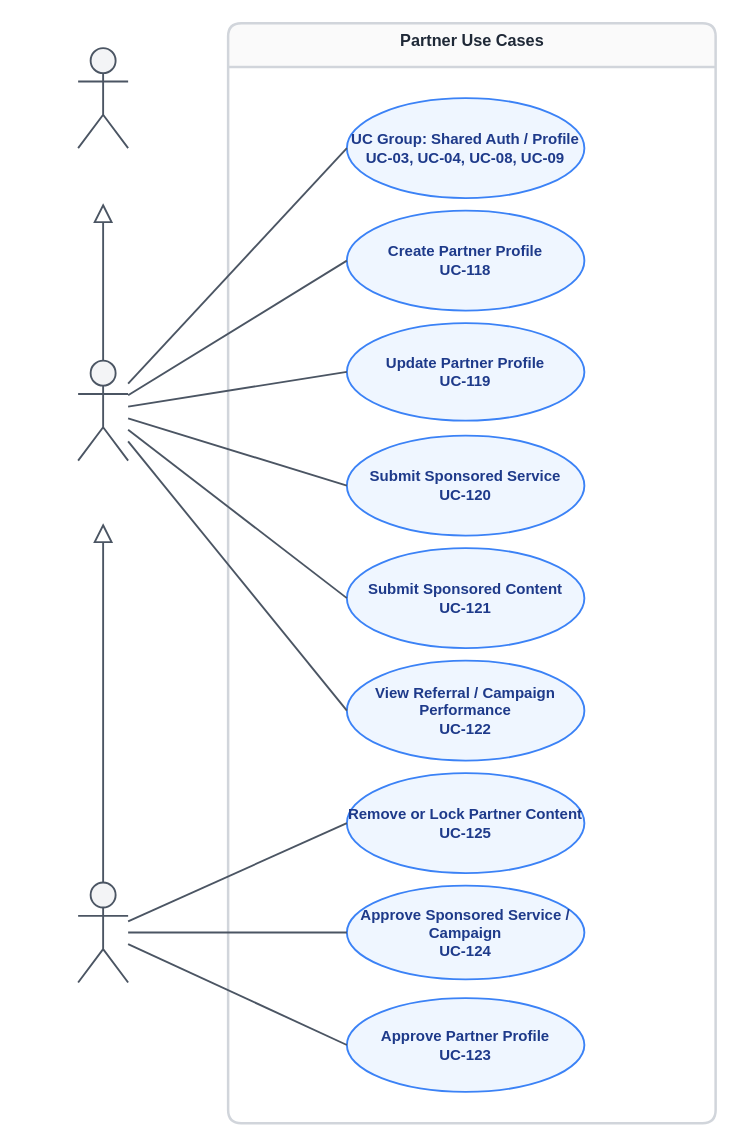
This 739x1145 diagram has some shape labels left out. The centre of each missing label's shape, as x and y in pixels:
Admin: (x=102, y=932)
Partner Representative: (x=102, y=410)
User: (x=102, y=97)
